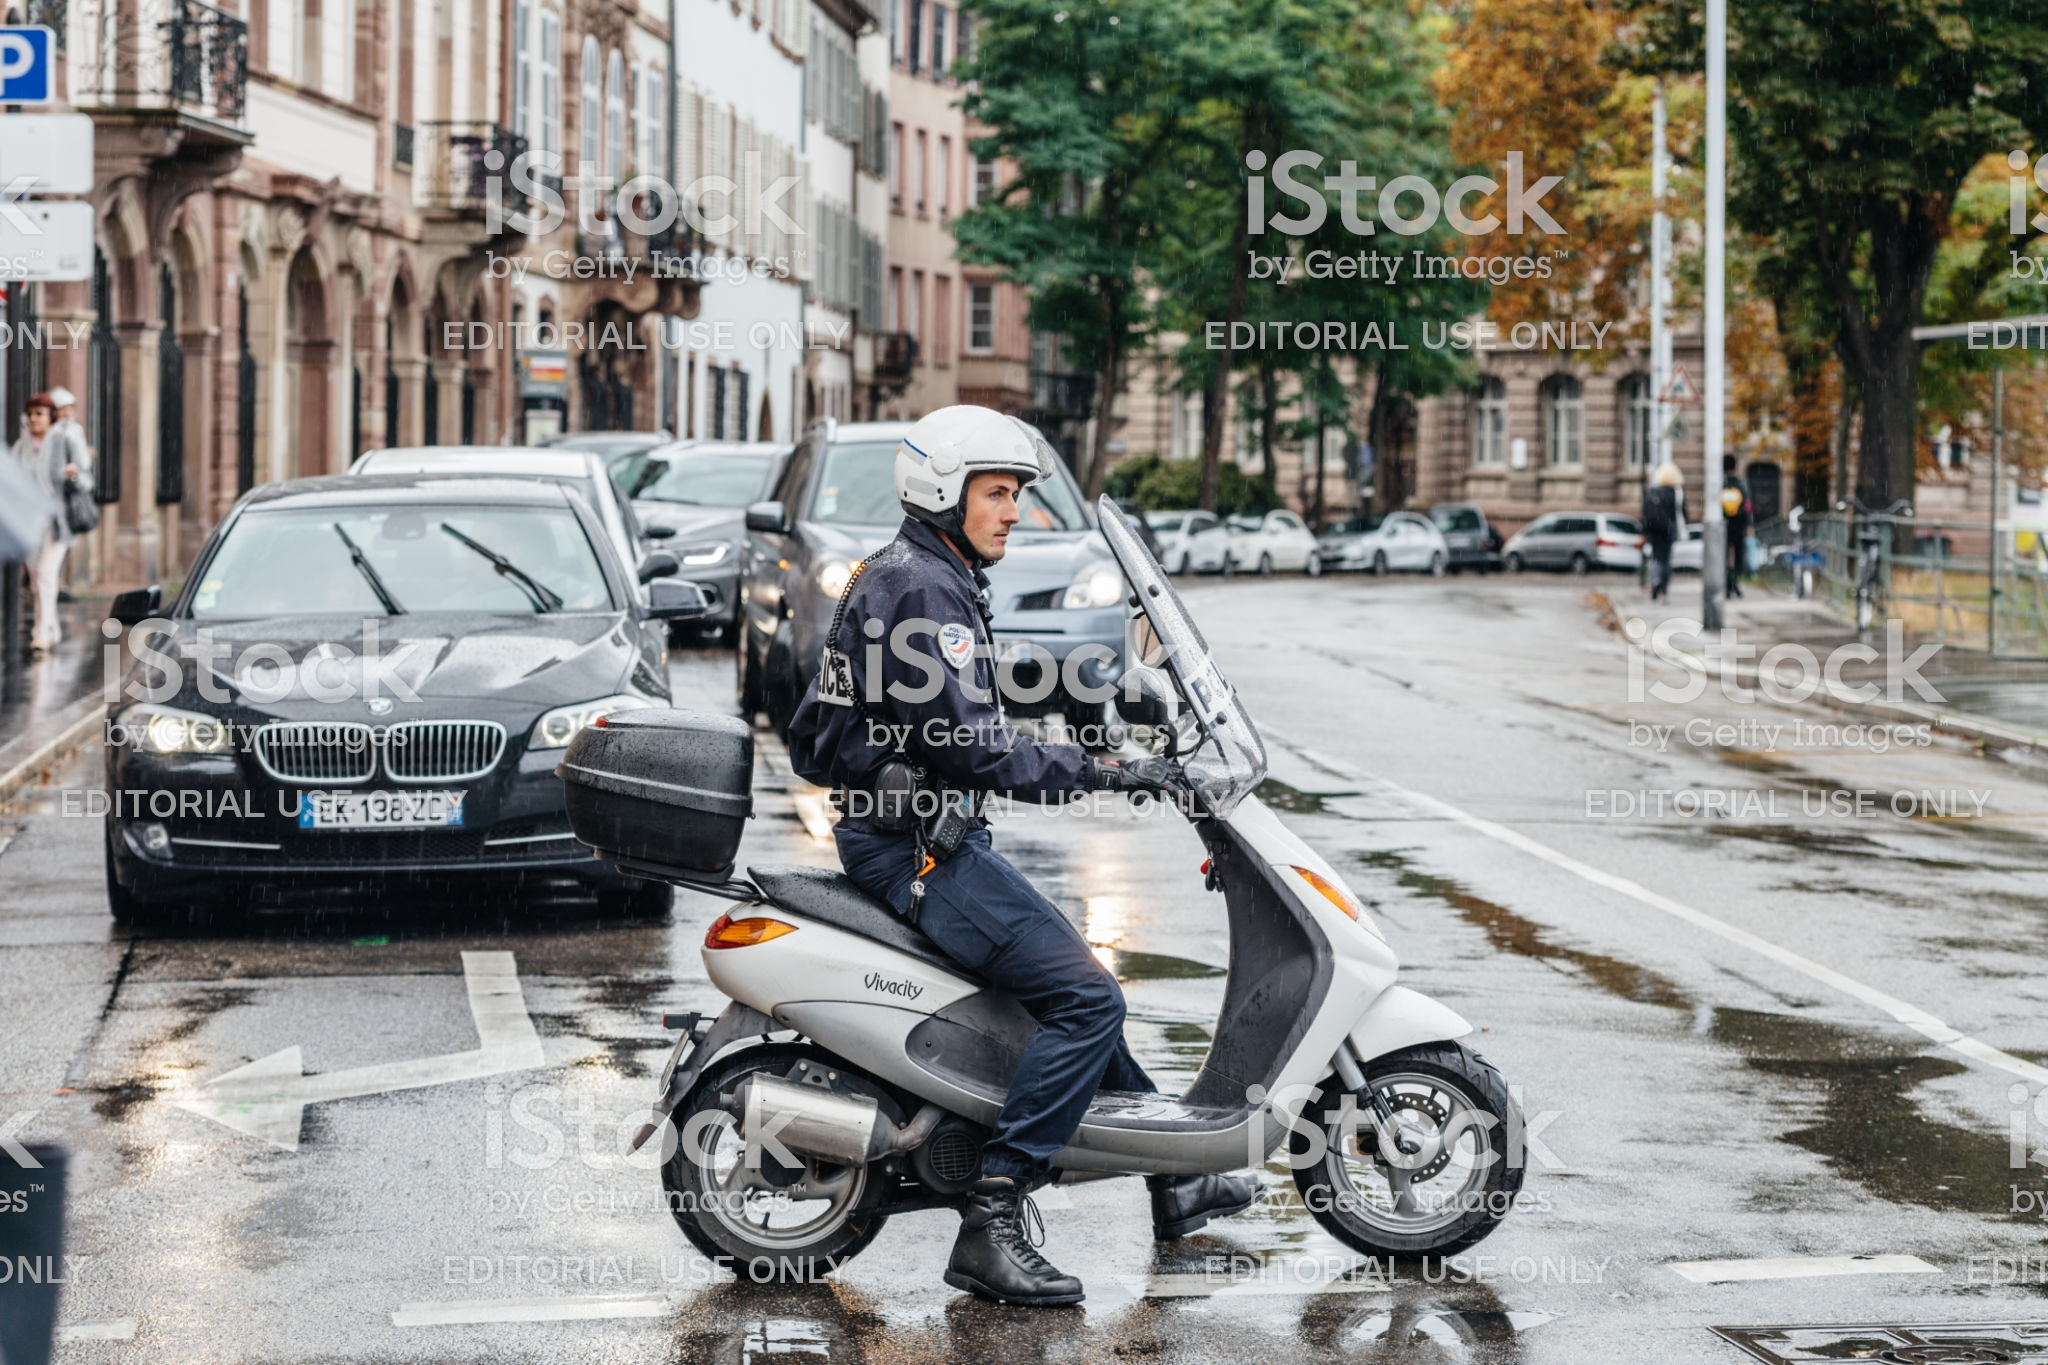helmet: (853, 385, 1061, 551)
